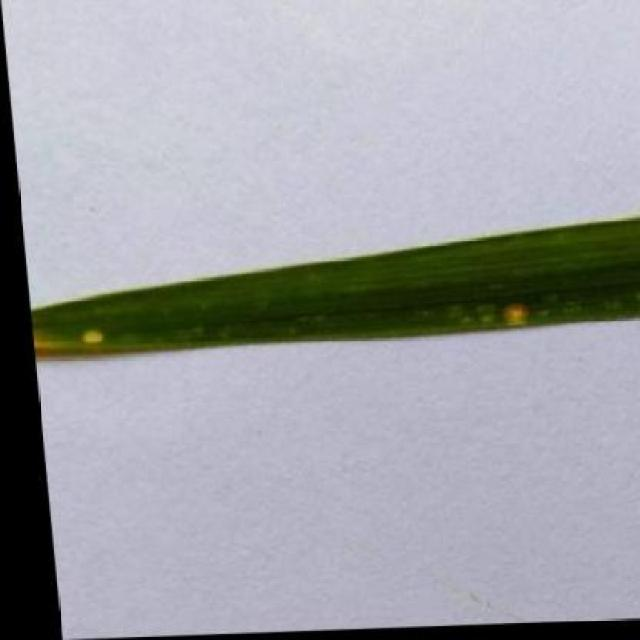Bacterial_Leaf_Blight: (486, 281, 536, 330), (74, 310, 111, 350)
